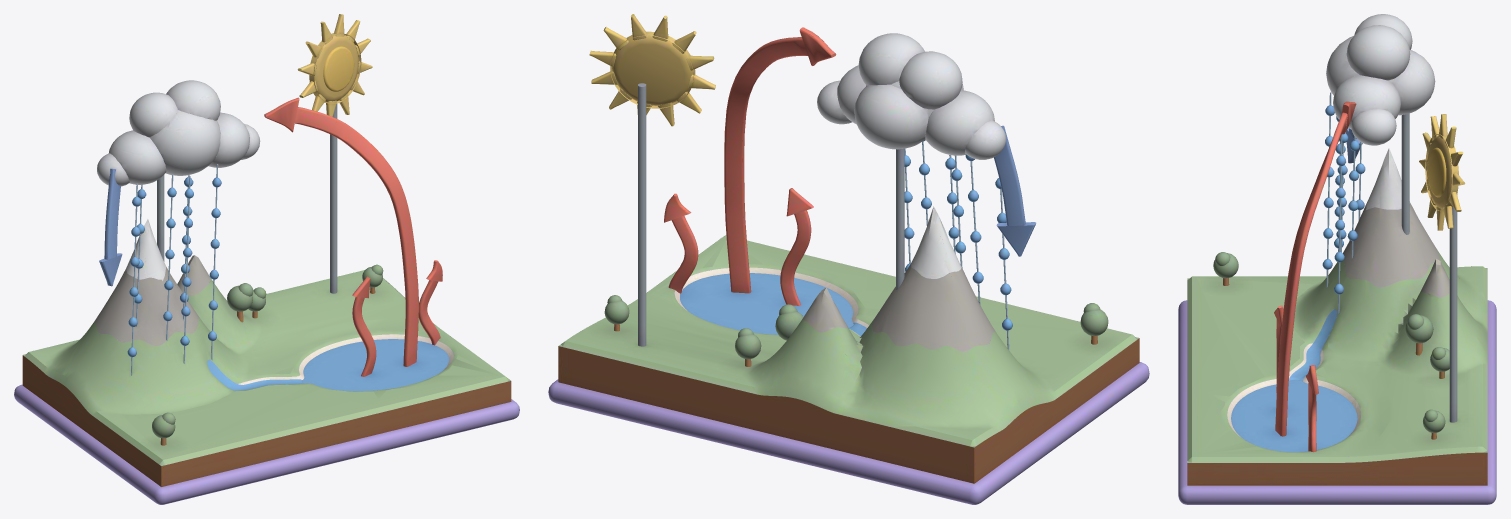
Rendered from water-cycle.glb.
3 views of the same model, side by side, from view 1: azimuth 30°, elevation 25°; view 2: azimuth 150°, elevation 25°; view 3: azimuth 270°, elevation 25° (orthographic). The views are drawn at different scales.
Parts seen in each view (by area): view 1: water-cycle_body; view 2: water-cycle_body; view 3: water-cycle_body.
Boxes of the visible parts, x1,y1,x2,y2 form: water-cycle_body: (14, 14, 519, 504); water-cycle_body: (548, 14, 1149, 504); water-cycle_body: (1178, 14, 1496, 504).
Bounding box in the file's own units: 0.4002 × 0.3432 × 0.2802.
1 material, 1 textured.
